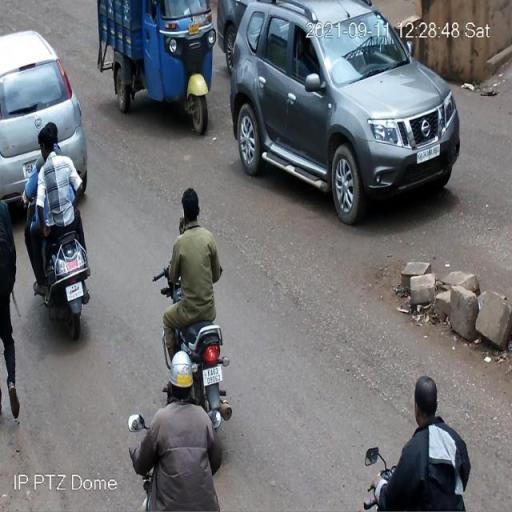using mobile: (177, 204, 189, 236)
